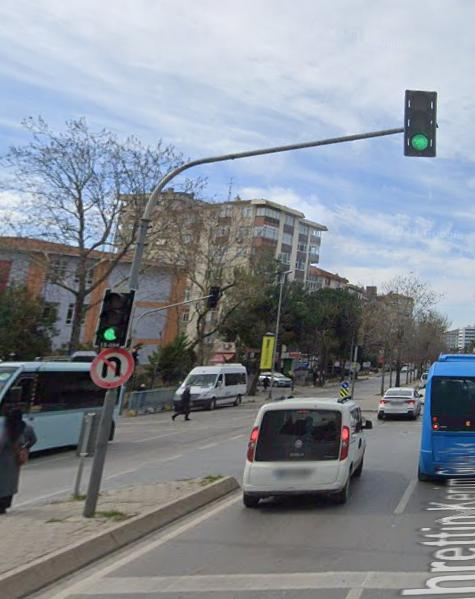greenlight: (407, 86, 438, 163), (100, 287, 131, 352)
